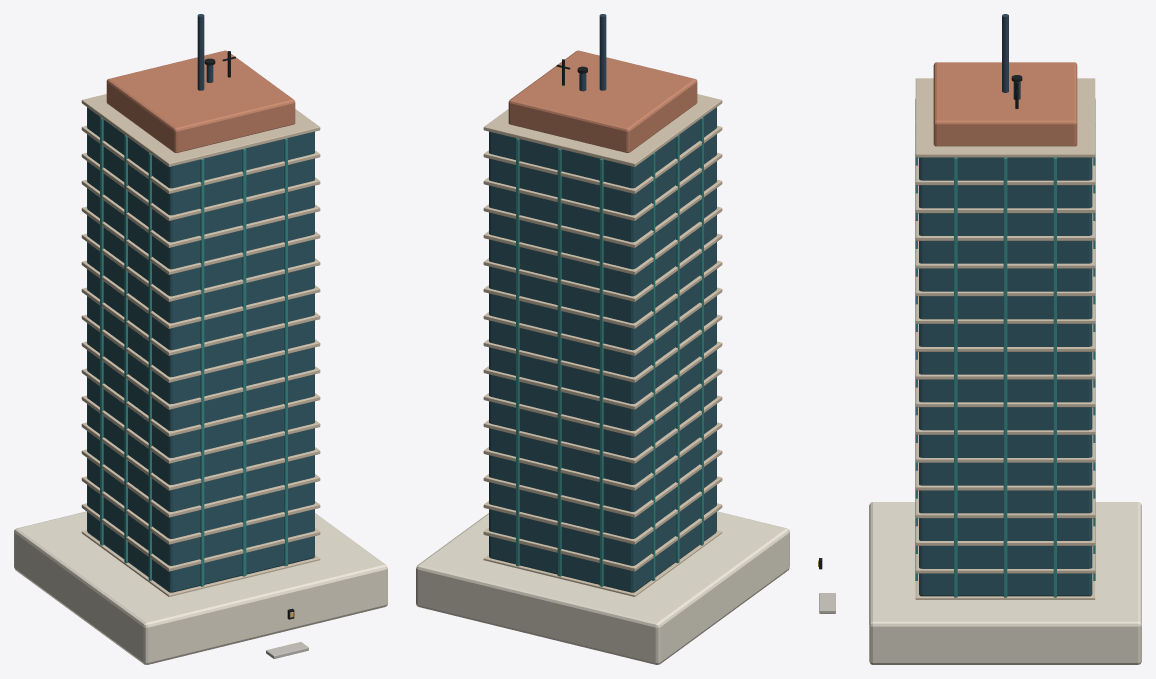
The model's file is RES_TOWER_3x3_001.glb.
The picture shows the model from 3 angles, left to right: view 1: azimuth 30°, elevation 25°; view 2: azimuth 150°, elevation 25°; view 3: azimuth 270°, elevation 25°; orthographic projection. The views are drawn at different scales.
Parts seen in each view (by area): view 1: RES_TOWER_3x3_001_Visual; view 2: RES_TOWER_3x3_001_Visual; view 3: RES_TOWER_3x3_001_Visual.
Boxes of the visible parts, x1,y1,x2,y2 form: RES_TOWER_3x3_001_Visual: (14,14,387,664); RES_TOWER_3x3_001_Visual: (416,14,789,664); RES_TOWER_3x3_001_Visual: (818,14,1141,664).
Size of what is drawn, in the model's own units: 4.55 by 10.2 by 5.08.
